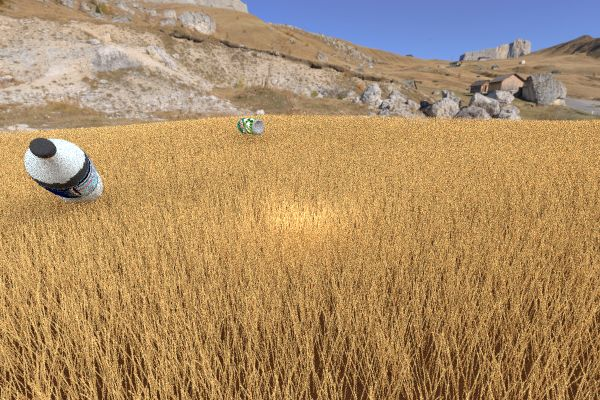bottle: (24, 137, 102, 204)
can: (237, 117, 264, 135)
